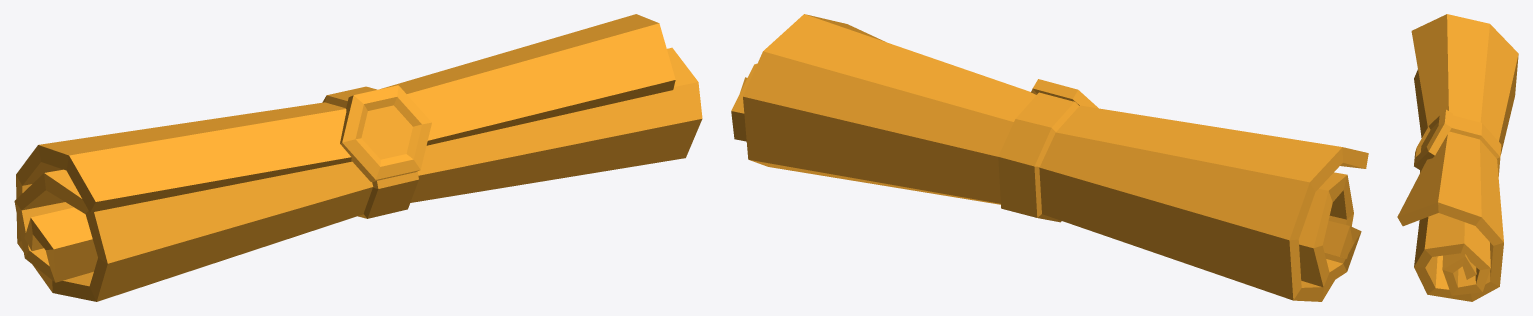
File: SM_Scroll_Sealed.fbx
The picture shows the model from 3 angles, left to right: view 1: azimuth 30°, elevation 25°; view 2: azimuth 150°, elevation 25°; view 3: azimuth 270°, elevation 25°; orthographic projection. The views are drawn at different scales.
Visible parts, largest first — view 1: scroll-sealed; view 2: scroll-sealed; view 3: scroll-sealed.
Part boxes in pixels (x1=…): scroll-sealed: x1=14, y1=14, x2=702, y2=301; scroll-sealed: x1=731, y1=14, x2=1368, y2=301; scroll-sealed: x1=1397, y1=14, x2=1518, y2=301.
Size of the model in its own units: 0.3197 by 0.0715 by 0.0794.
